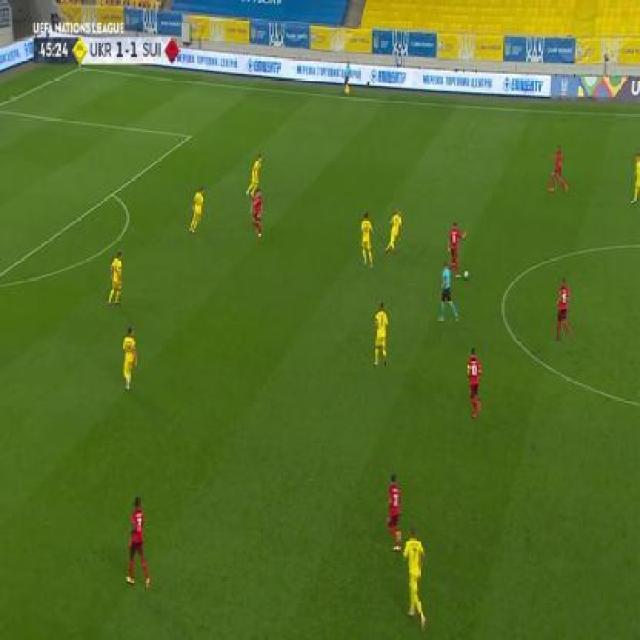ball: (464, 267, 469, 280)
player: (402, 525, 428, 631), (126, 494, 152, 593), (385, 470, 404, 555), (445, 219, 467, 281), (553, 275, 573, 343), (438, 260, 458, 326), (466, 346, 483, 422), (121, 325, 138, 393), (373, 300, 389, 368), (106, 249, 125, 306), (549, 143, 569, 196), (359, 209, 376, 271), (385, 208, 404, 256), (188, 185, 205, 236), (250, 188, 264, 241), (246, 153, 262, 198), (629, 152, 640, 203), (340, 59, 351, 96)
